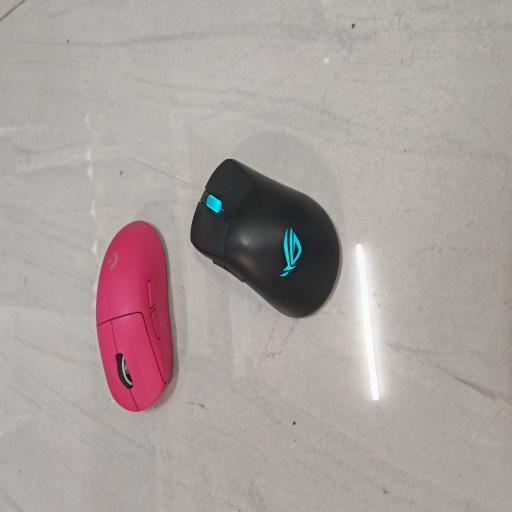mouse: (191, 159, 340, 317), (96, 221, 172, 411)
